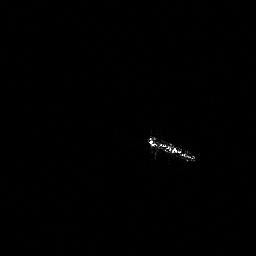ship: (144, 132, 200, 166)
